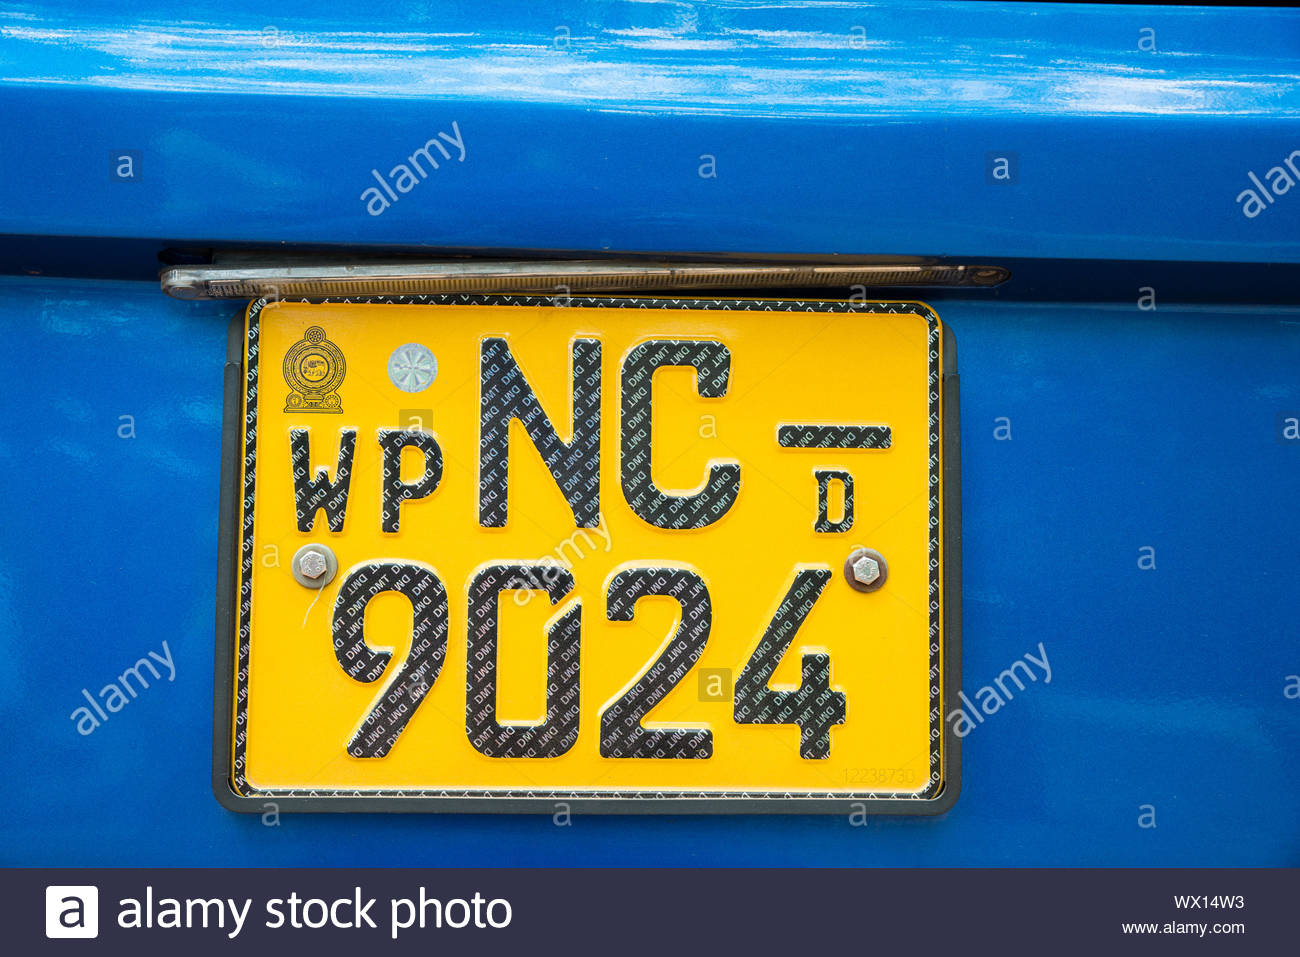doublelinenumberplate: (241, 291, 950, 811)
